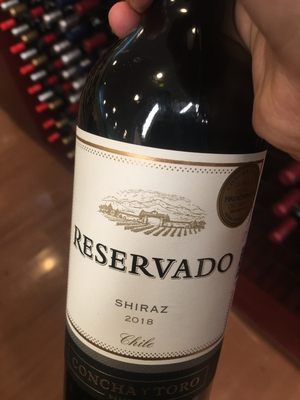reservado shiraz: (63, 32, 262, 400)
